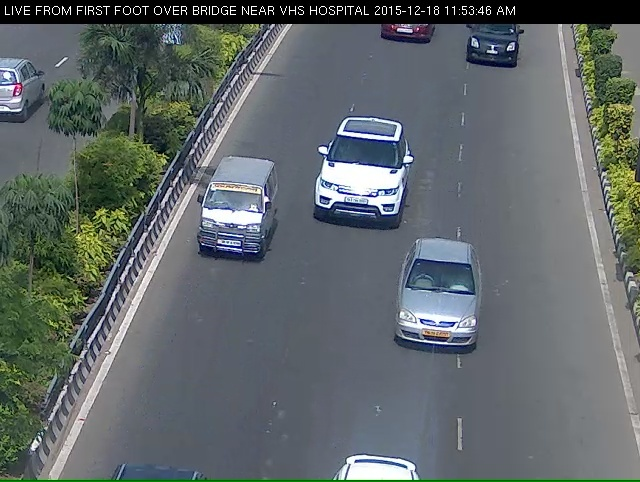Car: (390, 249, 487, 371), (310, 120, 397, 230), (186, 165, 271, 277), (453, 16, 528, 77), (370, 18, 436, 54)
